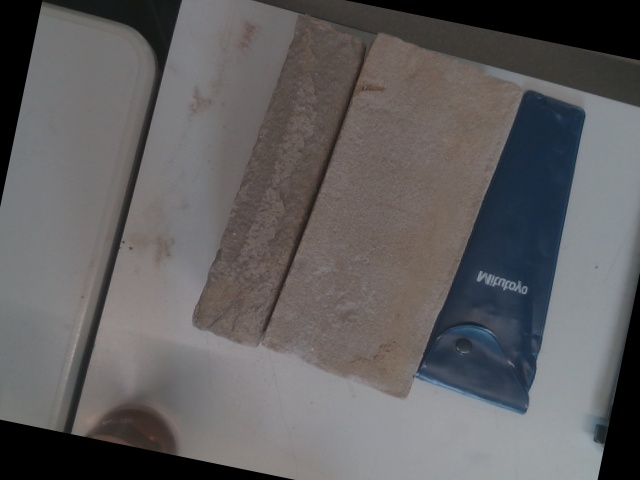brick: (259, 36, 523, 398)
